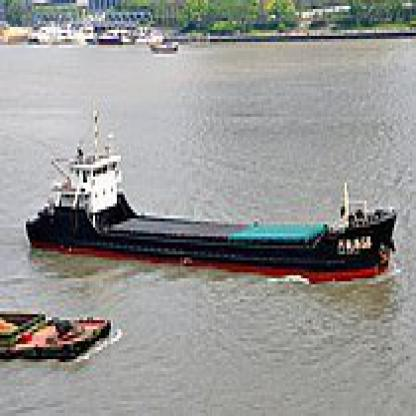Container Ship: (24, 103, 398, 283)
